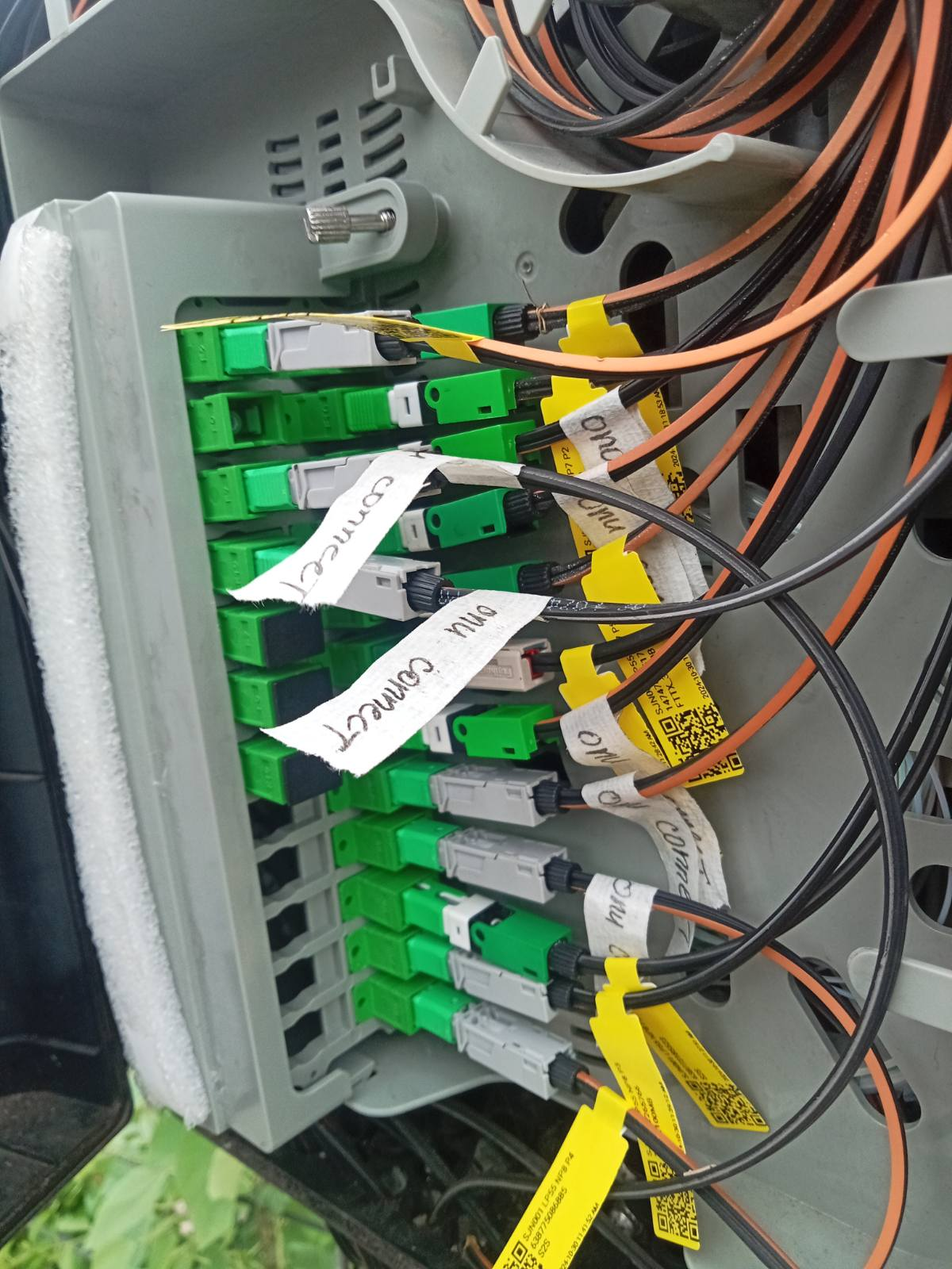no dust cap: (225, 391, 287, 446)
no port: (257, 831, 330, 913), (283, 990, 352, 1076), (266, 885, 339, 965), (272, 940, 345, 1018), (249, 781, 322, 851)
occupied: (408, 978, 604, 1122), (399, 872, 599, 991), (290, 294, 550, 378), (337, 414, 554, 503), (395, 812, 580, 915), (238, 437, 468, 519), (338, 479, 554, 566), (403, 928, 579, 1028), (253, 543, 463, 626), (331, 365, 548, 441), (215, 307, 429, 383), (357, 556, 572, 629), (386, 758, 580, 828), (371, 634, 567, 696), (370, 702, 567, 762)
vacant: (257, 606, 326, 670), (280, 741, 345, 807), (270, 665, 337, 729)
